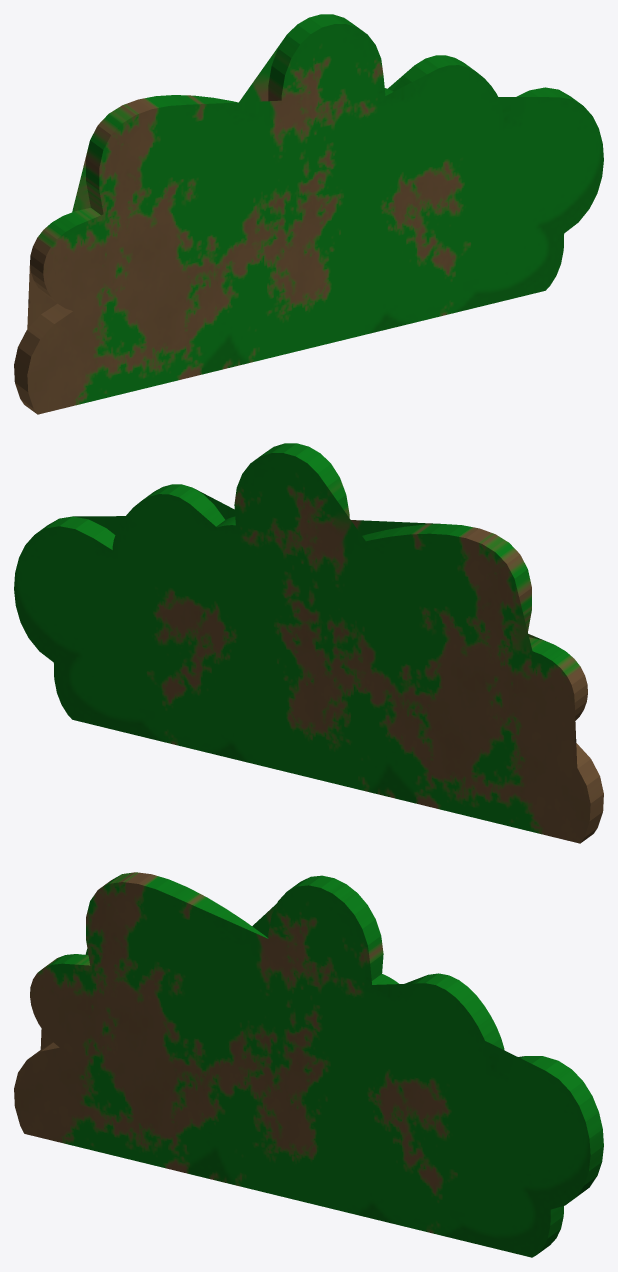
File: Arbusto4Junto.fbx
3 views of the same model, one above another, from view 1: azimuth 30°, elevation 25°; view 2: azimuth 150°, elevation 25°; view 3: azimuth 330°, elevation 25° (orthographic).
Parts seen in each view (by area): view 1: arbusto 4; view 2: arbusto 4; view 3: arbusto 4.
Boxes of the visible parts, bbox=[...] form: arbusto 4: bbox=[14, 14, 603, 414]; arbusto 4: bbox=[14, 443, 603, 843]; arbusto 4: bbox=[14, 872, 603, 1257].
Size of the model in its own units: 442 by 233 by 17.73.
